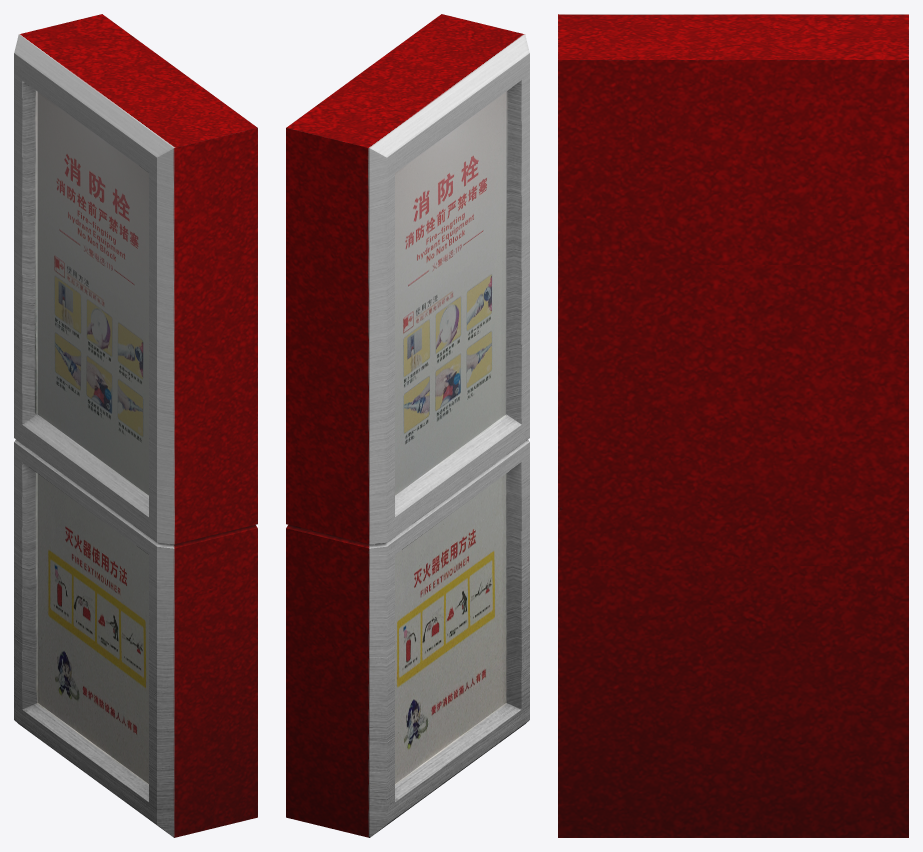
The model's file is 消火栓.fbx.
3 renders of one model, left to right at view 1: azimuth 30°, elevation 25°; view 2: azimuth 150°, elevation 25°; view 3: azimuth 270°, elevation 25°, orthographic. The views are drawn at different scales.
Visible parts, largest first — view 1: xf; view 2: xf; view 3: xf.
Boxes of the visible parts, x1,y1,x2,y2 form: xf: [14, 14, 257, 837]; xf: [286, 14, 529, 837]; xf: [558, 14, 908, 837].
Bounding box in the file's own units: 375 × 2616 × 1069.
